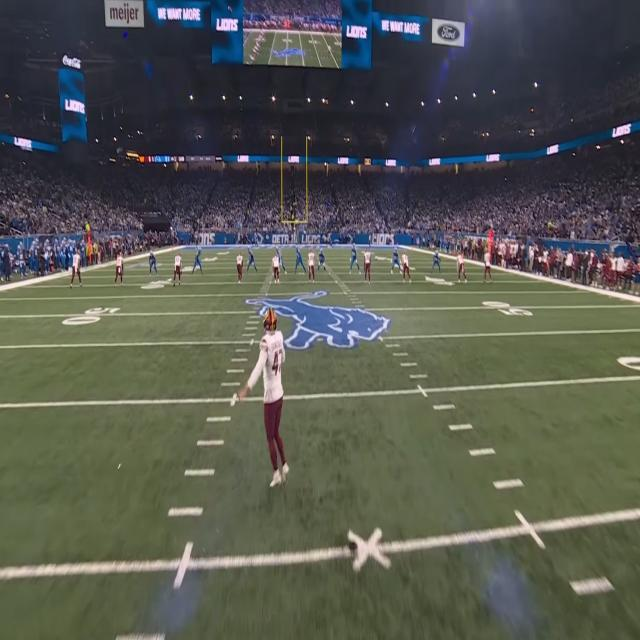Ball: (228, 4, 232, 14)
